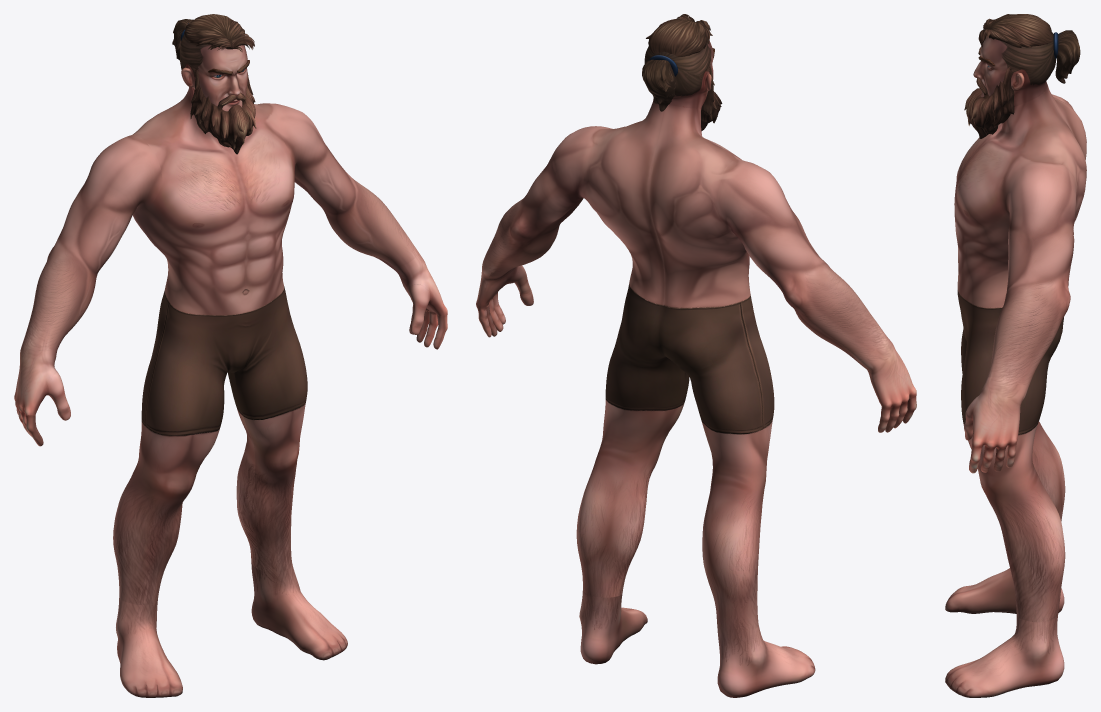
Rendered from WebTest_02.gltf.
3 renders of one model, left to right at view 1: azimuth 30°, elevation 25°; view 2: azimuth 150°, elevation 25°; view 3: azimuth 270°, elevation 25°, orthographic. The views are drawn at different scales.
Parts seen in each view (by area): view 1: sm_humanchest, sm_humanlegs, sm_humanfeets, sm_humanhand, sm_humanhead, sm_humanbeard_01, sm_humanhair_01; view 2: sm_humanchest, sm_humanlegs, sm_humanfeets, sm_humanhand, sm_humanhair_01, sm_humanhead; view 3: sm_humanchest, sm_humanlegs, sm_humanfeets, sm_humanhand, sm_humanhead, sm_humanhair_01, sm_humanbeard_01.
Boxes of the visible parts, x1=… form: sm_humanchest: x1=24, y1=89, x2=416, y2=349; sm_humanlegs: x1=113, y1=286, x2=307, y2=604; sm_humanfeets: x1=116, y1=562, x2=347, y2=697; sm_humanhand: x1=14, y1=249, x2=447, y2=446; sm_humanhead: x1=180, y1=34, x2=247, y2=111; sm_humanbeard_01: x1=190, y1=68, x2=256, y2=154; sm_humanhair_01: x1=172, y1=14, x2=254, y2=60; sm_humanchest: x1=485, y1=100, x2=885, y2=361; sm_humanlegs: x1=576, y1=285, x2=774, y2=630; sm_humanfeets: x1=579, y1=591, x2=815, y2=697; sm_humanhand: x1=476, y1=253, x2=916, y2=432; sm_humanhair_01: x1=642, y1=14, x2=712, y2=111; sm_humanhead: x1=644, y1=41, x2=713, y2=108; sm_humanchest: x1=954, y1=85, x2=1086, y2=388; sm_humanlegs: x1=957, y1=290, x2=1065, y2=622; sm_humanfeets: x1=945, y1=568, x2=1064, y2=697; sm_humanhand: x1=964, y1=377, x2=1027, y2=473; sm_humanhead: x1=973, y1=32, x2=1056, y2=106; sm_humanhair_01: x1=978, y1=14, x2=1080, y2=83; sm_humanbeard_01: x1=964, y1=67, x2=1014, y2=138.
Size of the model in its own units: 1.28 by 1.84 by 0.3737.
8 materials, 8 textured.
